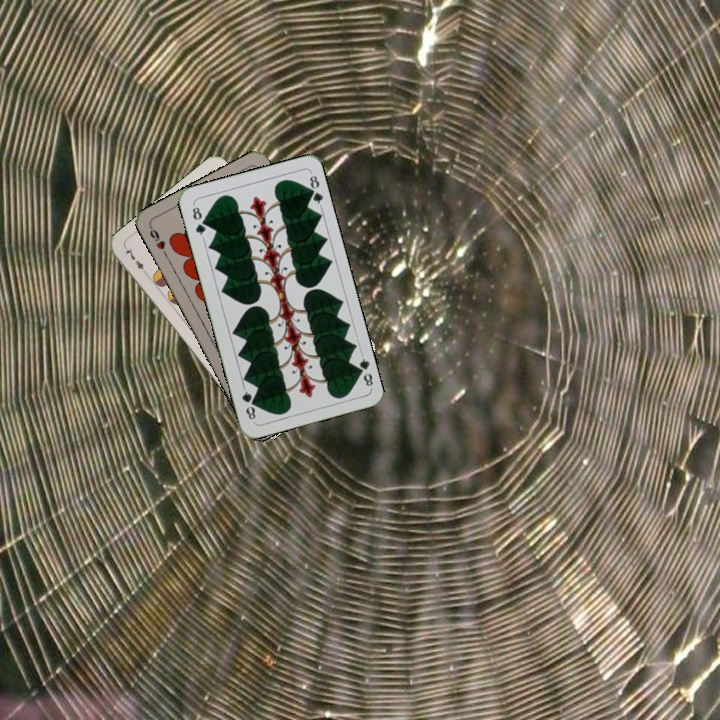E7: (121, 244, 151, 278)
G8: (351, 350, 376, 391), (188, 201, 208, 241)
H9: (145, 222, 171, 260)
